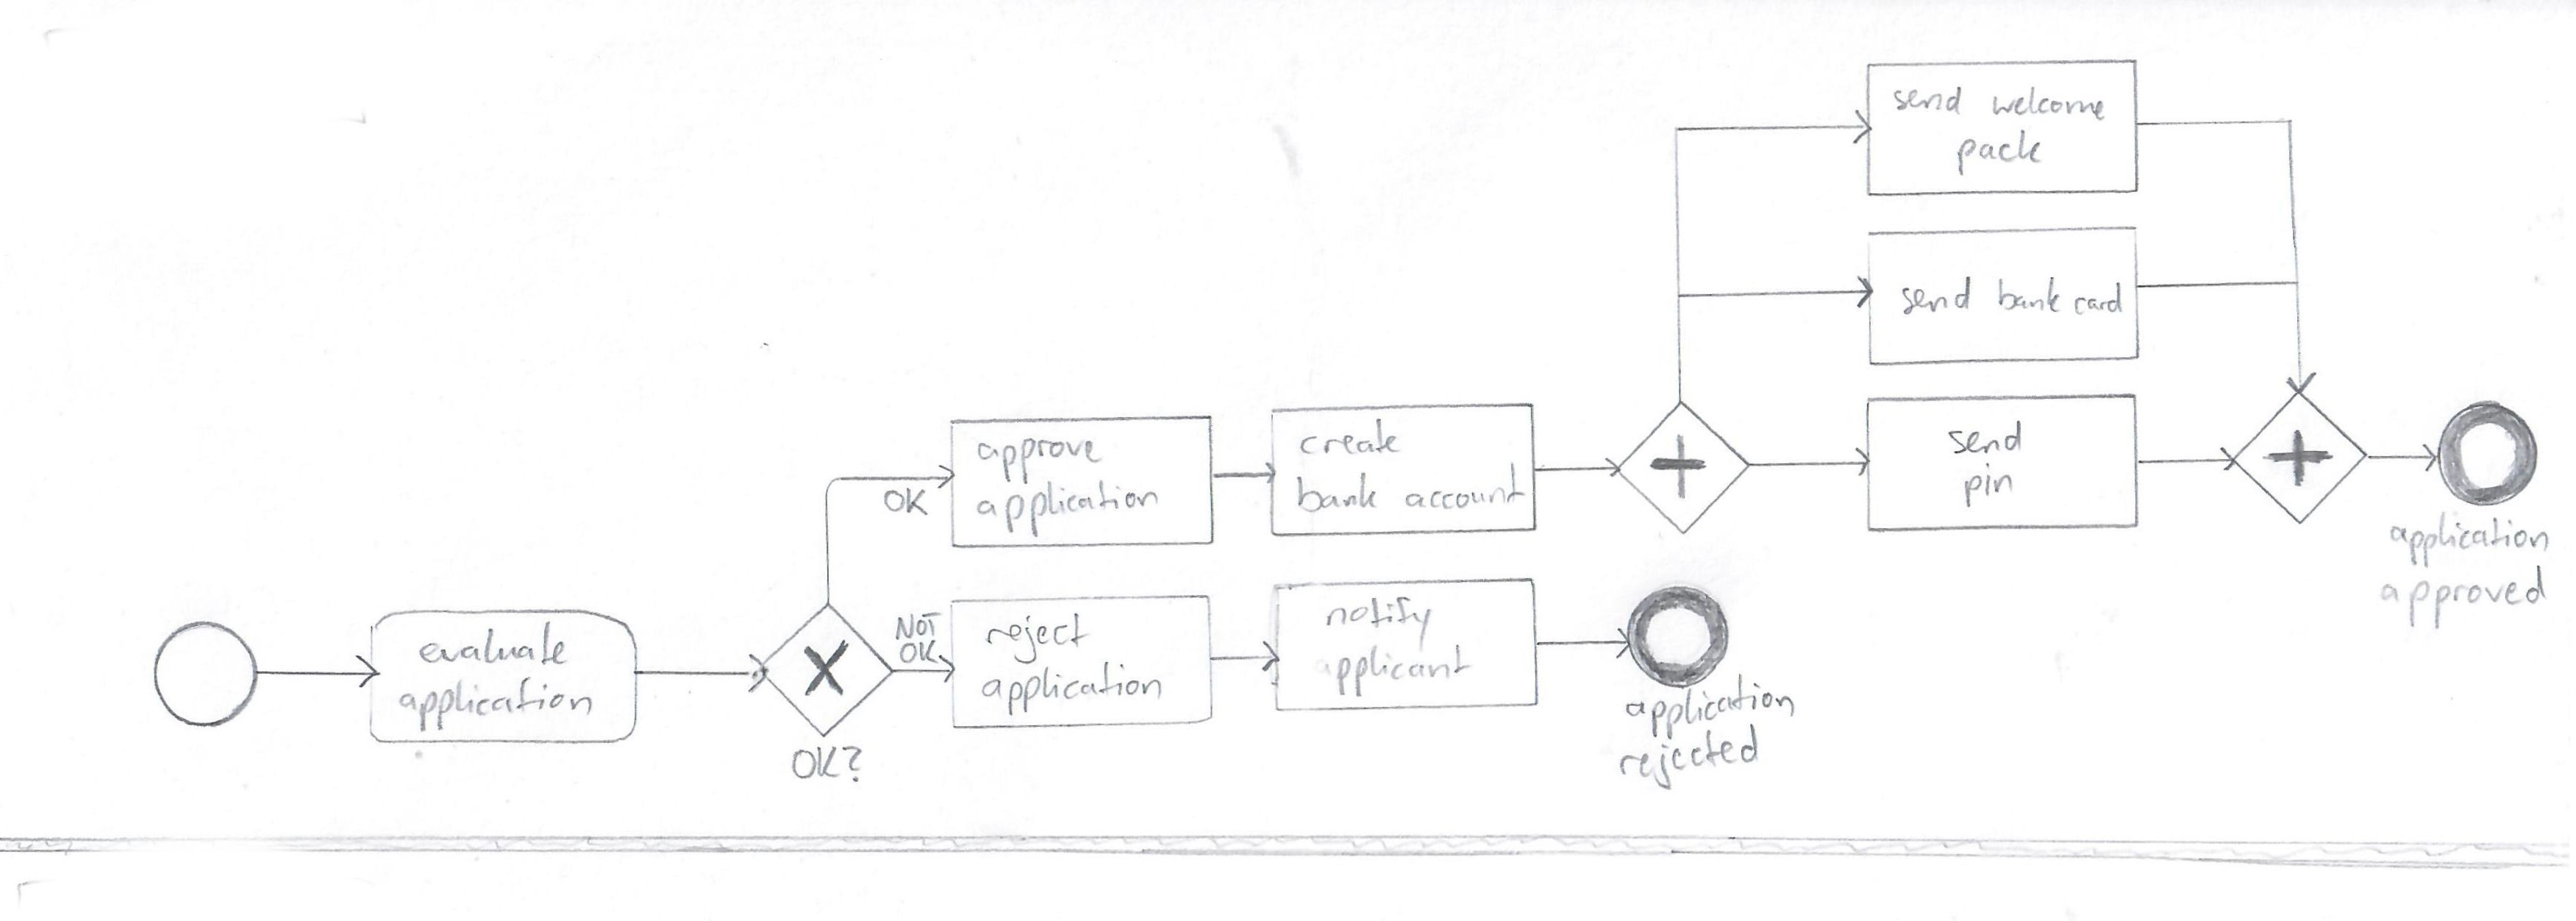NOT: (892, 607, 948, 643)
OK: (879, 484, 935, 518), (892, 638, 948, 669)
OK?: (789, 738, 869, 788)
account: (1406, 460, 1523, 520)
applicant: (1304, 635, 1470, 701)
application: (396, 674, 605, 737), (1617, 679, 1805, 742), (974, 474, 1168, 535), (981, 663, 1171, 720), (2384, 511, 2563, 569)
approve: (968, 434, 1102, 482)
approved: (2366, 567, 2571, 630)
bank: (1298, 475, 1400, 515), (1988, 273, 2072, 321)
card: (2070, 276, 2127, 321)
create: (1291, 416, 1410, 460)
evaluate: (417, 617, 577, 671)
notify: (1319, 587, 1447, 645)
pack: (1952, 125, 2052, 179)
pin: (1960, 460, 2021, 510)
reject: (982, 610, 1091, 666)
rejected: (1612, 730, 1764, 794)
send: (1888, 71, 1968, 135), (1893, 271, 1986, 319), (1947, 421, 2029, 459)
welcome: (1980, 84, 2113, 125)
